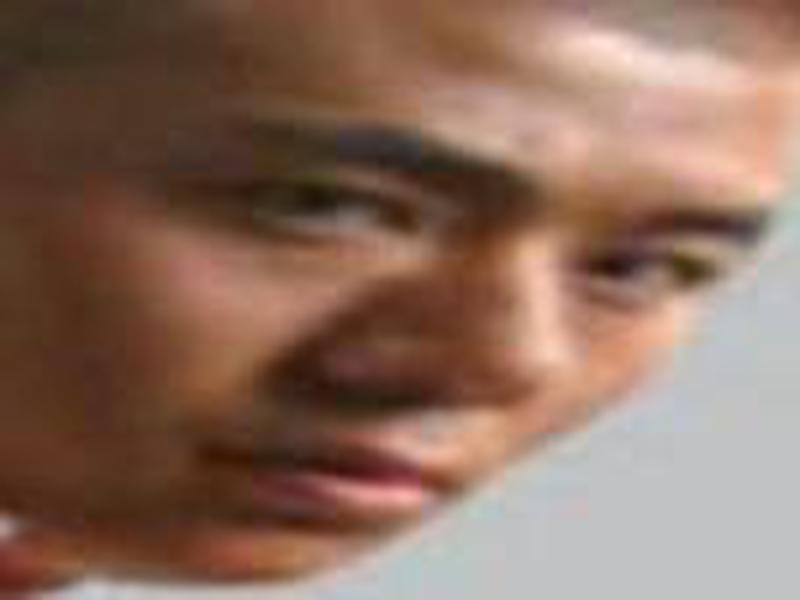without_mask: (6, 2, 793, 589)
